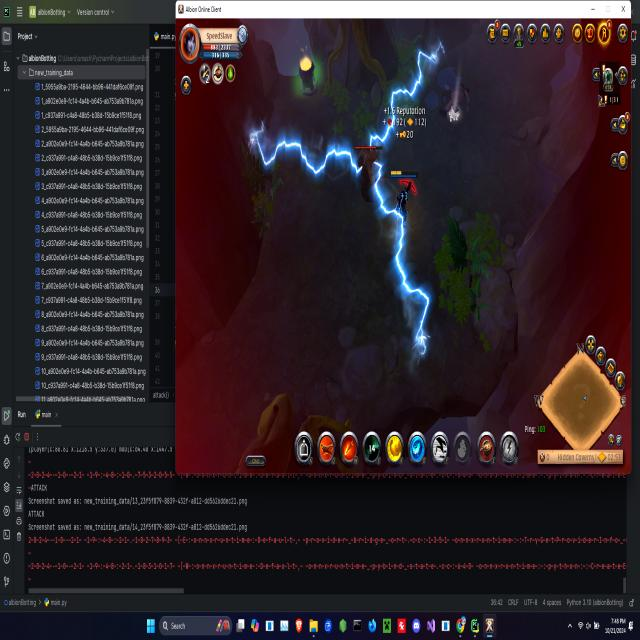fiber: (294, 51, 321, 101)
ore: (354, 141, 390, 206)
red: (389, 164, 420, 234)
silver: (366, 157, 456, 377), (367, 27, 452, 154), (242, 116, 365, 179)
stone: (446, 103, 461, 127)
